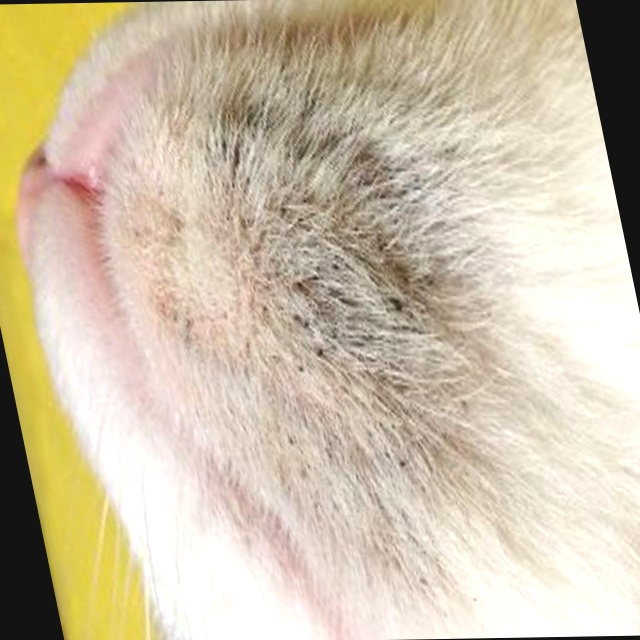acne: (177, 120, 477, 475)
